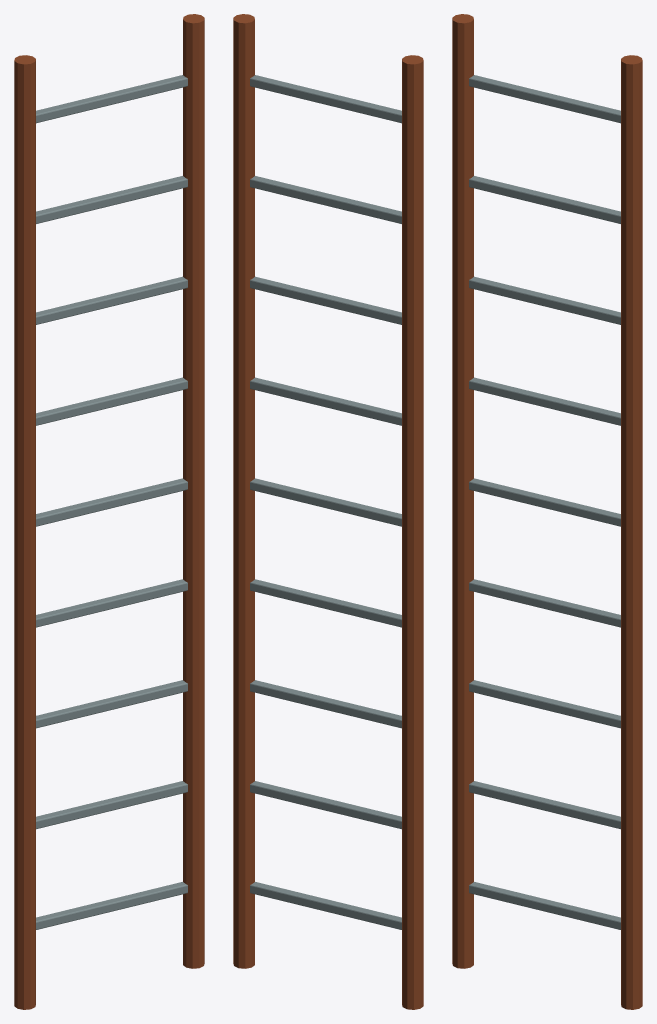
File: SM_FC01_Prop_SeawallLadder_A.fbx
3 renders of one model, left to right at view 1: azimuth 30°, elevation 25°; view 2: azimuth 150°, elevation 25°; view 3: azimuth 330°, elevation 25°, orthographic.
Visible parts, largest first — view 1: SM_FC01_Prop_SeawallLadder_A_Side_-0.28, SM_FC01_Prop_SeawallLadder_A_Side_0.28, SM_FC01_Prop_SeawallLadder_A_Rung_5, SM_FC01_Prop_SeawallLadder_A_Rung_2, SM_FC01_Prop_SeawallLadder_A_Rung_4, SM_FC01_Prop_SeawallLadder_A_Rung_0, SM_FC01_Prop_SeawallLadder_A_Rung_7, SM_FC01_Prop_SeawallLadder_A_Rung_1, SM_FC01_Prop_SeawallLadder_A_Rung_3, SM_FC01_Prop_SeawallLadder_A_Rung_6, SM_FC01_Prop_SeawallLadder_A_Rung_8; view 2: SM_FC01_Prop_SeawallLadder_A_Side_-0.28, SM_FC01_Prop_SeawallLadder_A_Side_0.28, SM_FC01_Prop_SeawallLadder_A_Rung_5, SM_FC01_Prop_SeawallLadder_A_Rung_2, SM_FC01_Prop_SeawallLadder_A_Rung_4, SM_FC01_Prop_SeawallLadder_A_Rung_0, SM_FC01_Prop_SeawallLadder_A_Rung_7, SM_FC01_Prop_SeawallLadder_A_Rung_1, SM_FC01_Prop_SeawallLadder_A_Rung_3, SM_FC01_Prop_SeawallLadder_A_Rung_6, SM_FC01_Prop_SeawallLadder_A_Rung_8; view 3: SM_FC01_Prop_SeawallLadder_A_Side_0.28, SM_FC01_Prop_SeawallLadder_A_Side_-0.28, SM_FC01_Prop_SeawallLadder_A_Rung_5, SM_FC01_Prop_SeawallLadder_A_Rung_2, SM_FC01_Prop_SeawallLadder_A_Rung_4, SM_FC01_Prop_SeawallLadder_A_Rung_0, SM_FC01_Prop_SeawallLadder_A_Rung_7, SM_FC01_Prop_SeawallLadder_A_Rung_1, SM_FC01_Prop_SeawallLadder_A_Rung_3, SM_FC01_Prop_SeawallLadder_A_Rung_6, SM_FC01_Prop_SeawallLadder_A_Rung_8.
Part boxes in pixels (x1=…): SM_FC01_Prop_SeawallLadder_A_Side_-0.28: x1=14, y1=55, x2=35, y2=1009; SM_FC01_Prop_SeawallLadder_A_Side_0.28: x1=183, y1=14, x2=204, y2=968; SM_FC01_Prop_SeawallLadder_A_Rung_5: x1=36, y1=377, x2=187, y2=425; SM_FC01_Prop_SeawallLadder_A_Rung_2: x1=36, y1=680, x2=187, y2=728; SM_FC01_Prop_SeawallLadder_A_Rung_4: x1=36, y1=478, x2=187, y2=526; SM_FC01_Prop_SeawallLadder_A_Rung_0: x1=36, y1=882, x2=187, y2=929; SM_FC01_Prop_SeawallLadder_A_Rung_7: x1=36, y1=176, x2=187, y2=223; SM_FC01_Prop_SeawallLadder_A_Rung_1: x1=36, y1=781, x2=187, y2=829; SM_FC01_Prop_SeawallLadder_A_Rung_3: x1=36, y1=579, x2=187, y2=627; SM_FC01_Prop_SeawallLadder_A_Rung_6: x1=36, y1=276, x2=187, y2=324; SM_FC01_Prop_SeawallLadder_A_Rung_8: x1=36, y1=75, x2=187, y2=123; SM_FC01_Prop_SeawallLadder_A_Side_-0.28: x1=402, y1=55, x2=423, y2=1009; SM_FC01_Prop_SeawallLadder_A_Side_0.28: x1=233, y1=14, x2=254, y2=968; SM_FC01_Prop_SeawallLadder_A_Rung_5: x1=250, y1=377, x2=401, y2=425; SM_FC01_Prop_SeawallLadder_A_Rung_2: x1=250, y1=680, x2=401, y2=728; SM_FC01_Prop_SeawallLadder_A_Rung_4: x1=250, y1=478, x2=401, y2=526; SM_FC01_Prop_SeawallLadder_A_Rung_0: x1=250, y1=882, x2=401, y2=929; SM_FC01_Prop_SeawallLadder_A_Rung_7: x1=250, y1=176, x2=401, y2=223; SM_FC01_Prop_SeawallLadder_A_Rung_1: x1=250, y1=781, x2=401, y2=829; SM_FC01_Prop_SeawallLadder_A_Rung_3: x1=250, y1=579, x2=401, y2=627; SM_FC01_Prop_SeawallLadder_A_Rung_6: x1=250, y1=276, x2=401, y2=324; SM_FC01_Prop_SeawallLadder_A_Rung_8: x1=250, y1=75, x2=401, y2=123; SM_FC01_Prop_SeawallLadder_A_Side_0.28: x1=621, y1=55, x2=642, y2=1009; SM_FC01_Prop_SeawallLadder_A_Side_-0.28: x1=452, y1=14, x2=473, y2=968; SM_FC01_Prop_SeawallLadder_A_Rung_5: x1=469, y1=377, x2=620, y2=425; SM_FC01_Prop_SeawallLadder_A_Rung_2: x1=469, y1=680, x2=620, y2=728; SM_FC01_Prop_SeawallLadder_A_Rung_4: x1=469, y1=478, x2=620, y2=526; SM_FC01_Prop_SeawallLadder_A_Rung_0: x1=469, y1=882, x2=620, y2=929; SM_FC01_Prop_SeawallLadder_A_Rung_7: x1=469, y1=176, x2=620, y2=223; SM_FC01_Prop_SeawallLadder_A_Rung_1: x1=469, y1=781, x2=620, y2=829; SM_FC01_Prop_SeawallLadder_A_Rung_3: x1=469, y1=579, x2=620, y2=627; SM_FC01_Prop_SeawallLadder_A_Rung_6: x1=469, y1=276, x2=620, y2=324; SM_FC01_Prop_SeawallLadder_A_Rung_8: x1=469, y1=75, x2=620, y2=123.
Bounding box in the file's own units: 0.6209 × 3 × 0.064.
